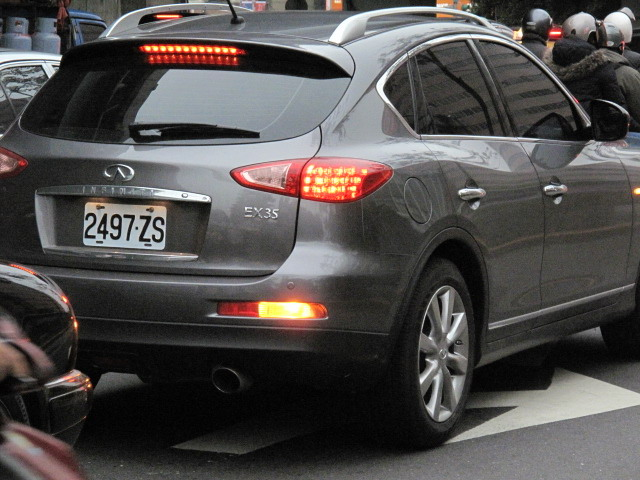plate: (83, 200, 166, 252)
